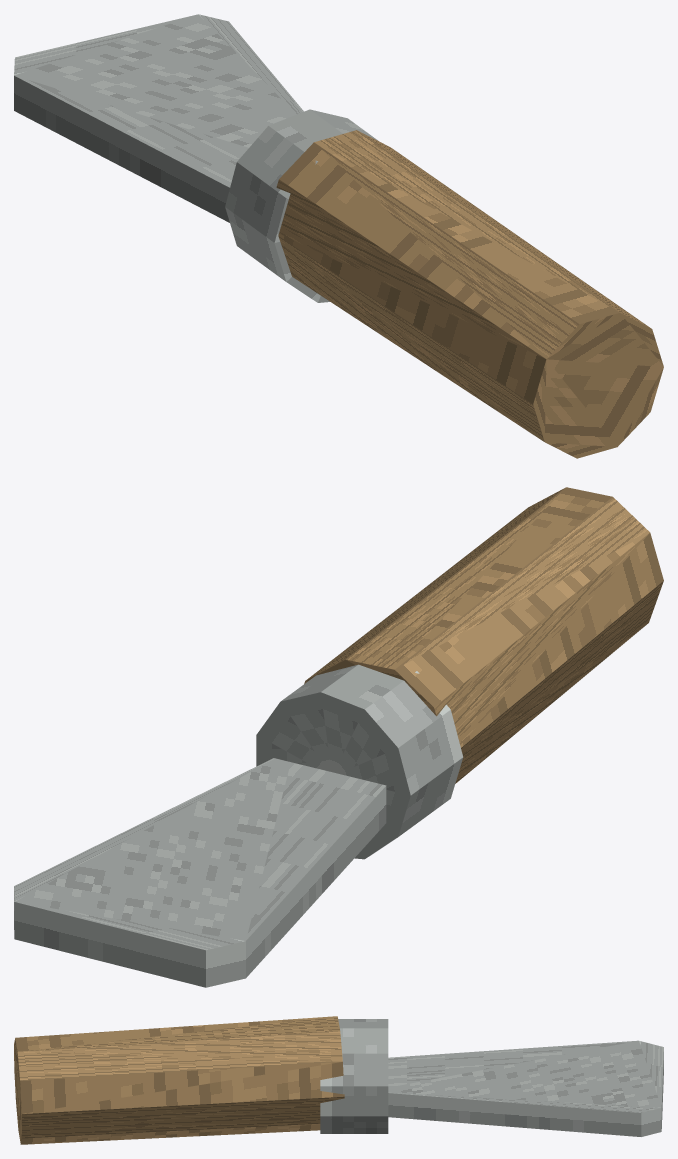
File: chipper.glb
3 renders of one model, top to bottom at view 1: azimuth 30°, elevation 25°; view 2: azimuth 150°, elevation 25°; view 3: azimuth 270°, elevation 25°, orthographic. The views are drawn at different scales.
Visible parts, largest first — view 1: block_palm handle, block_flat scraping edge, block_steel ferrule; view 2: block_flat scraping edge, block_palm handle, block_steel ferrule; view 3: block_palm handle, block_flat scraping edge, block_steel ferrule.
Boxes of the visible parts, box(x1,y1,x2,y2) form: block_palm handle: box(276, 130, 663, 458); block_flat scraping edge: box(14, 14, 303, 222); block_steel ferrule: box(225, 109, 378, 302); block_flat scraping edge: box(14, 758, 386, 987); block_palm handle: box(304, 487, 663, 783); block_steel ferrule: box(256, 664, 463, 859); block_palm handle: box(14, 1016, 344, 1144); block_flat scraping edge: box(388, 1040, 663, 1136); block_steel ferrule: box(320, 1019, 388, 1133).
Bounding box in the file's own units: 0.0132 × 0.00904 × 0.05.
Materials: 1 (1 with a texture image).
